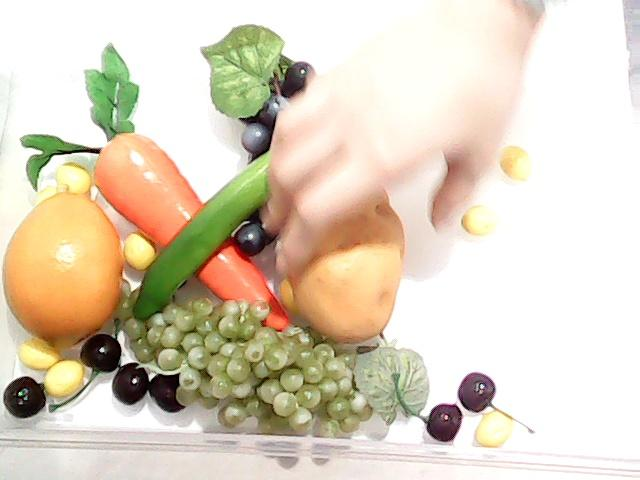carrot: (14, 39, 286, 329)
grape: (132, 308, 426, 452), (200, 27, 320, 255)
lemon: (9, 176, 139, 344)
pepper: (127, 119, 365, 325)
potato: (290, 186, 406, 346)
